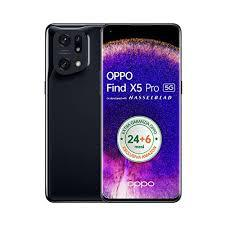Smartphone: (108, 28, 178, 201), (49, 23, 106, 200)
